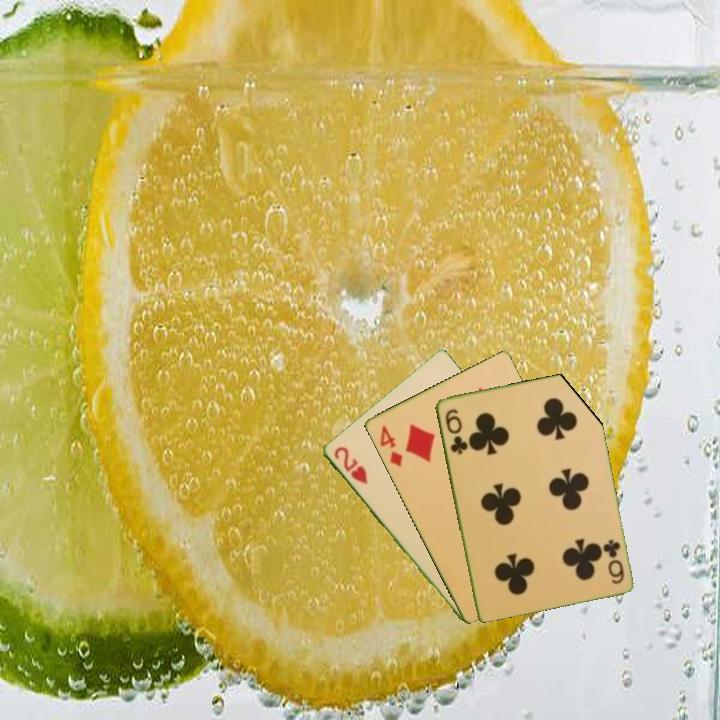2h: (330, 443, 370, 487)
4d: (376, 422, 405, 470)
6c: (441, 405, 469, 457), (599, 536, 627, 587)
